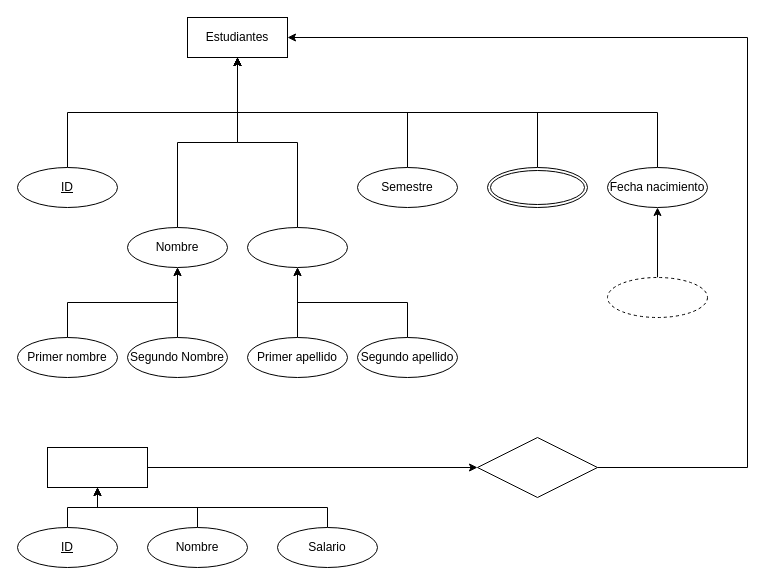
Some shapes in this 773 by 585 pixel diagram are drawn without their labels. The shapes that lost their labels are listed below. From the top down, each one's centre as x and y in pixels, then its label:
the point at 537,187: Teléfono
the point at 297,247: Apelllido
the point at 657,297: Edad
the point at 97,467: Profesor
the point at 537,467: Asesor
